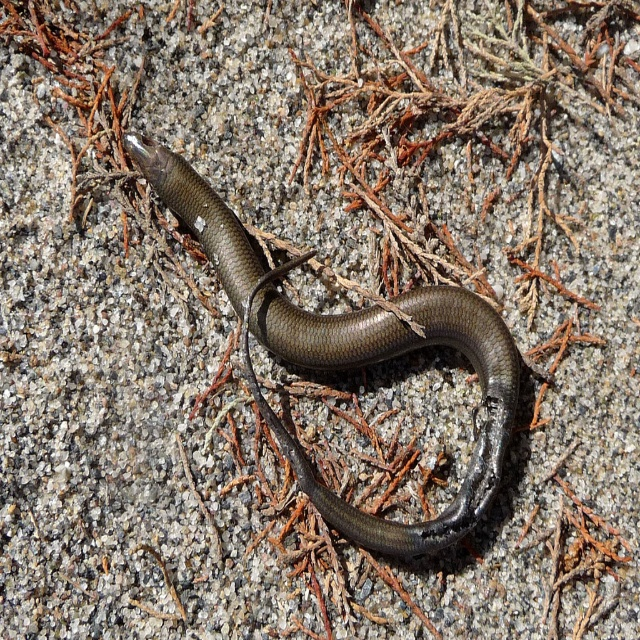Snake: (121, 134, 526, 565)
